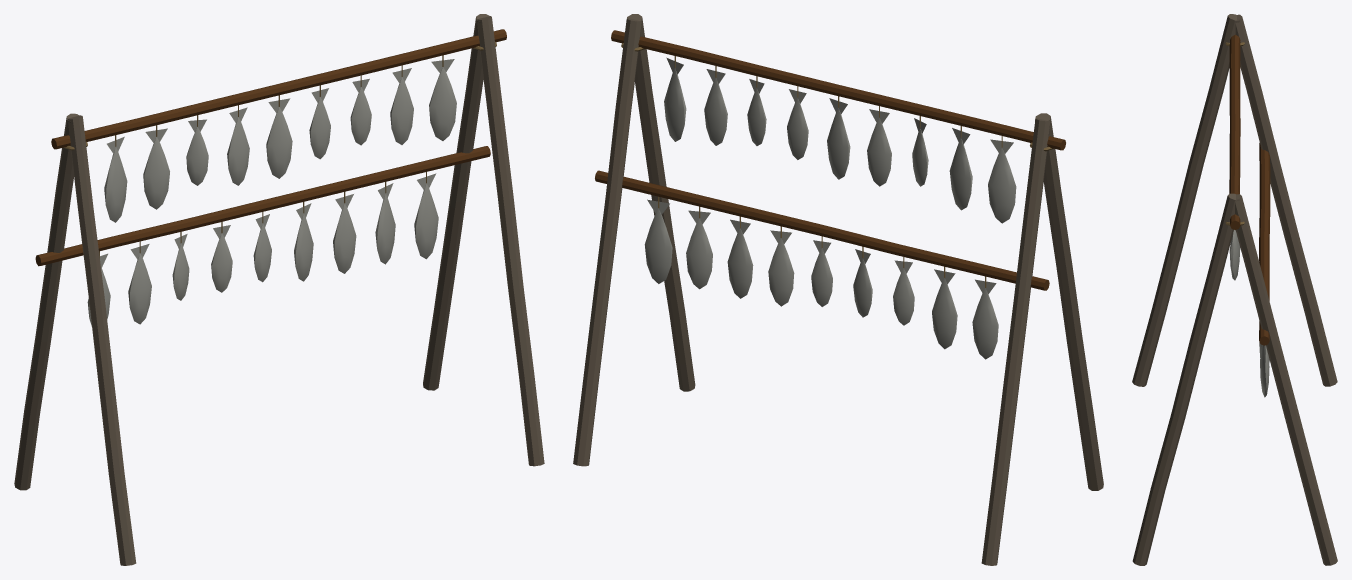
The model's file is fischgestell.glb.
3 views of the same model, side by side, from view 1: azimuth 30°, elevation 25°; view 2: azimuth 150°, elevation 25°; view 3: azimuth 270°, elevation 25° (orthographic). The views are drawn at different scales.
Visible parts, largest first — view 1: fischgestell; view 2: fischgestell; view 3: fischgestell.
Part boxes in pixels (x1,y1,x2,y2): fischgestell: (14,14,544,565); fischgestell: (573,14,1103,565); fischgestell: (1132,14,1337,565).
Bounding box in the file's own units: 2.2 × 1.92 × 0.9704.
